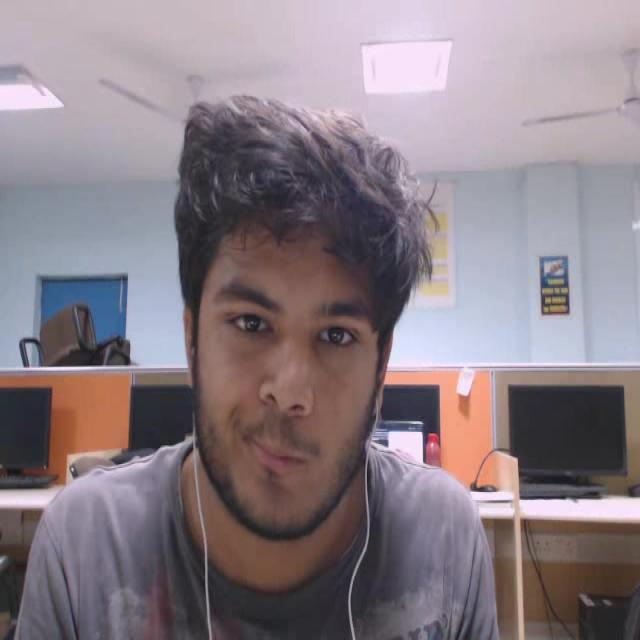Engaged: (146, 67, 454, 572)
